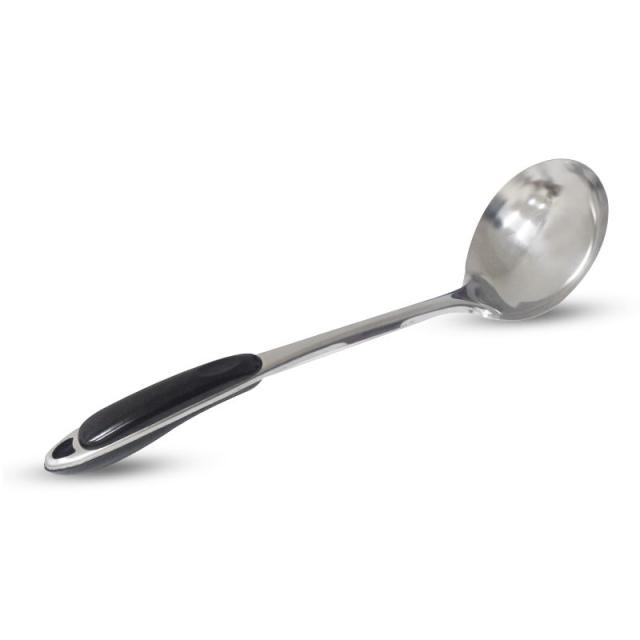spoon: (19, 138, 621, 494)
